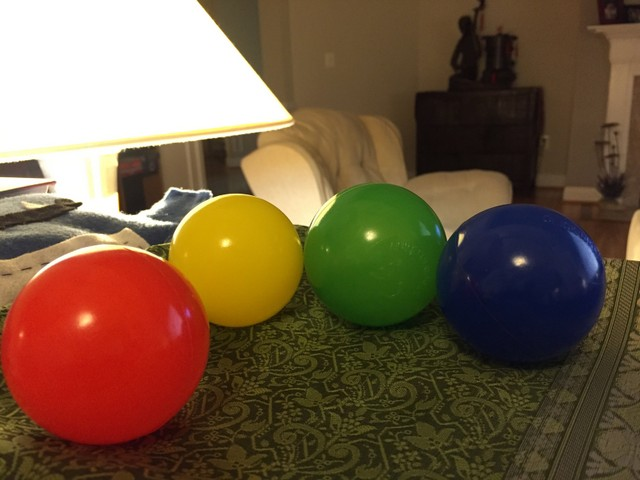Ball: (305, 183, 444, 327)
